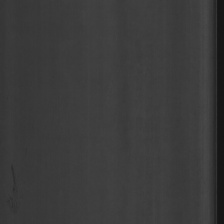water_spot: (4, 160, 23, 213)
